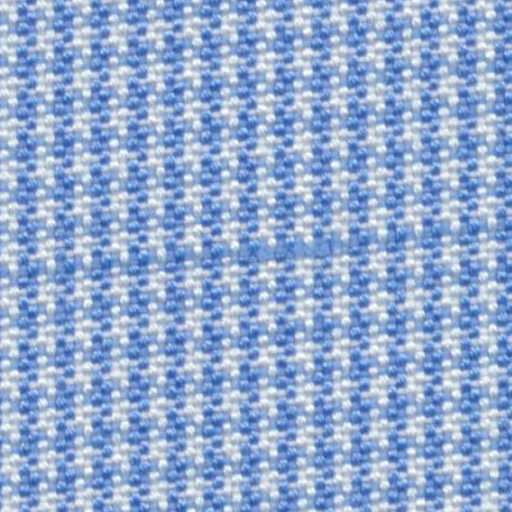TuoSha: (28, 195, 488, 278)
